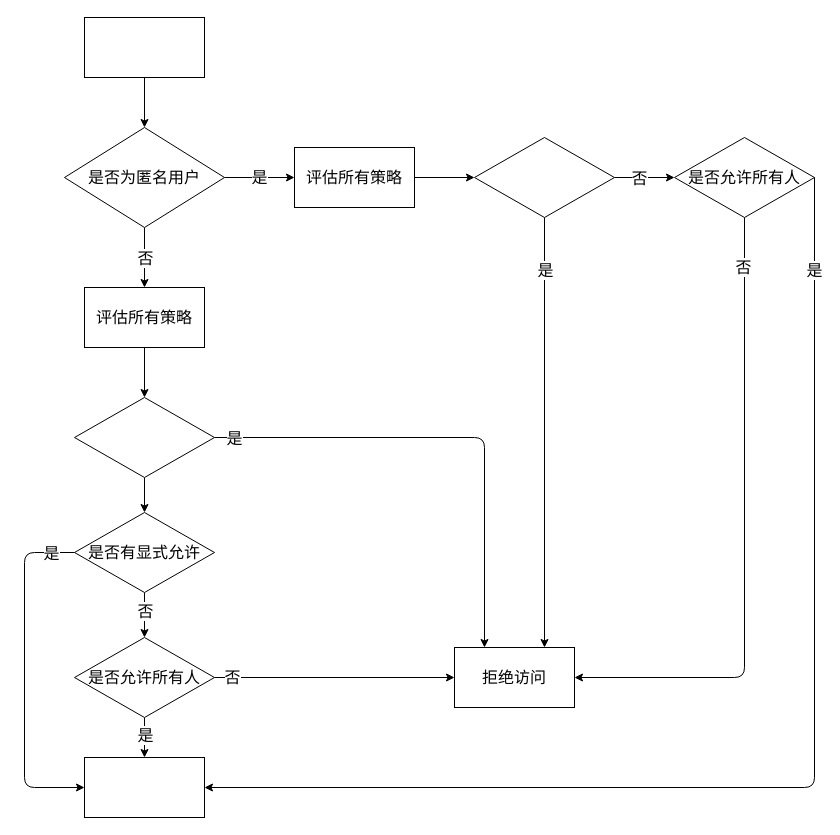
Image size: 840x835. Some labels were removed from this diagram. The centre of each missing label's shape, as x and y in pixels:
"允许访问" belongs at pixel 144 787.
"是否拒绝所有人" belongs at pixel 544 177.
"是否有显式拒绝" belongs at pixel 144 437.
"评估用户身份" belongs at pixel 144 47.
